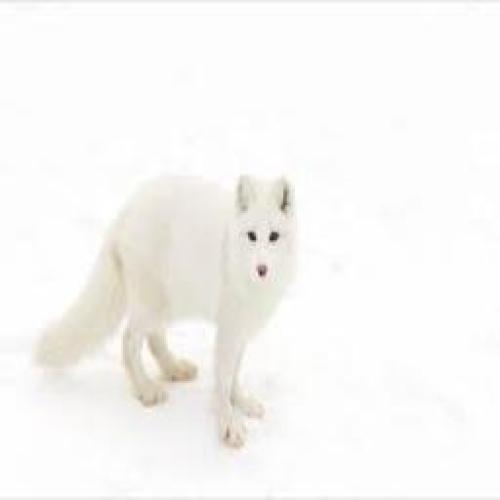arctic_fox-endangered: (35, 178, 300, 464)
